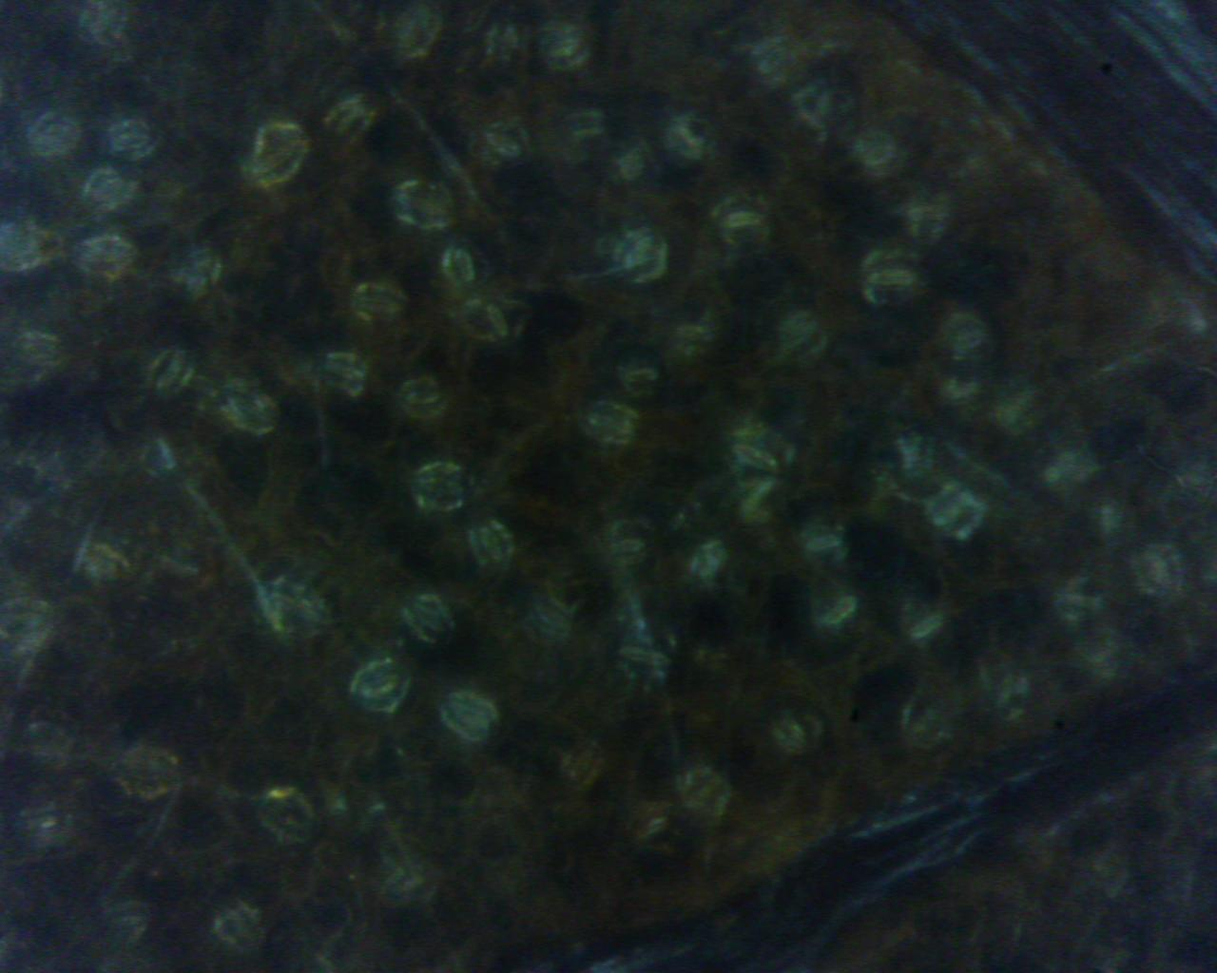stomata: (862, 257, 926, 305), (266, 585, 331, 631), (120, 748, 178, 797), (393, 185, 451, 234), (249, 130, 301, 181), (731, 438, 788, 484), (78, 237, 138, 279), (608, 145, 661, 192), (415, 463, 468, 510), (355, 666, 408, 712), (27, 114, 80, 158), (615, 641, 680, 675), (266, 796, 319, 836), (605, 521, 655, 563), (225, 390, 278, 429), (715, 200, 764, 242), (990, 666, 1027, 721), (1058, 577, 1105, 620), (107, 122, 157, 160), (445, 243, 485, 290), (385, 868, 435, 904), (803, 526, 850, 564), (401, 380, 448, 418), (357, 287, 406, 323), (401, 6, 436, 56), (624, 233, 663, 277), (1141, 548, 1177, 595), (947, 316, 988, 357), (479, 302, 520, 343), (585, 404, 631, 440), (453, 699, 493, 739), (17, 334, 63, 368), (783, 318, 823, 357), (410, 602, 452, 639), (908, 198, 950, 234), (488, 126, 530, 162), (332, 100, 368, 142), (324, 354, 366, 388), (544, 33, 587, 66), (930, 494, 970, 528), (88, 174, 128, 208), (481, 524, 510, 570), (686, 775, 722, 811), (533, 597, 568, 634), (756, 44, 790, 82), (184, 253, 214, 296), (154, 352, 185, 393), (623, 363, 667, 391), (674, 122, 708, 158), (860, 138, 895, 172), (818, 596, 860, 624), (780, 715, 812, 751), (907, 612, 944, 639), (570, 745, 593, 787)
